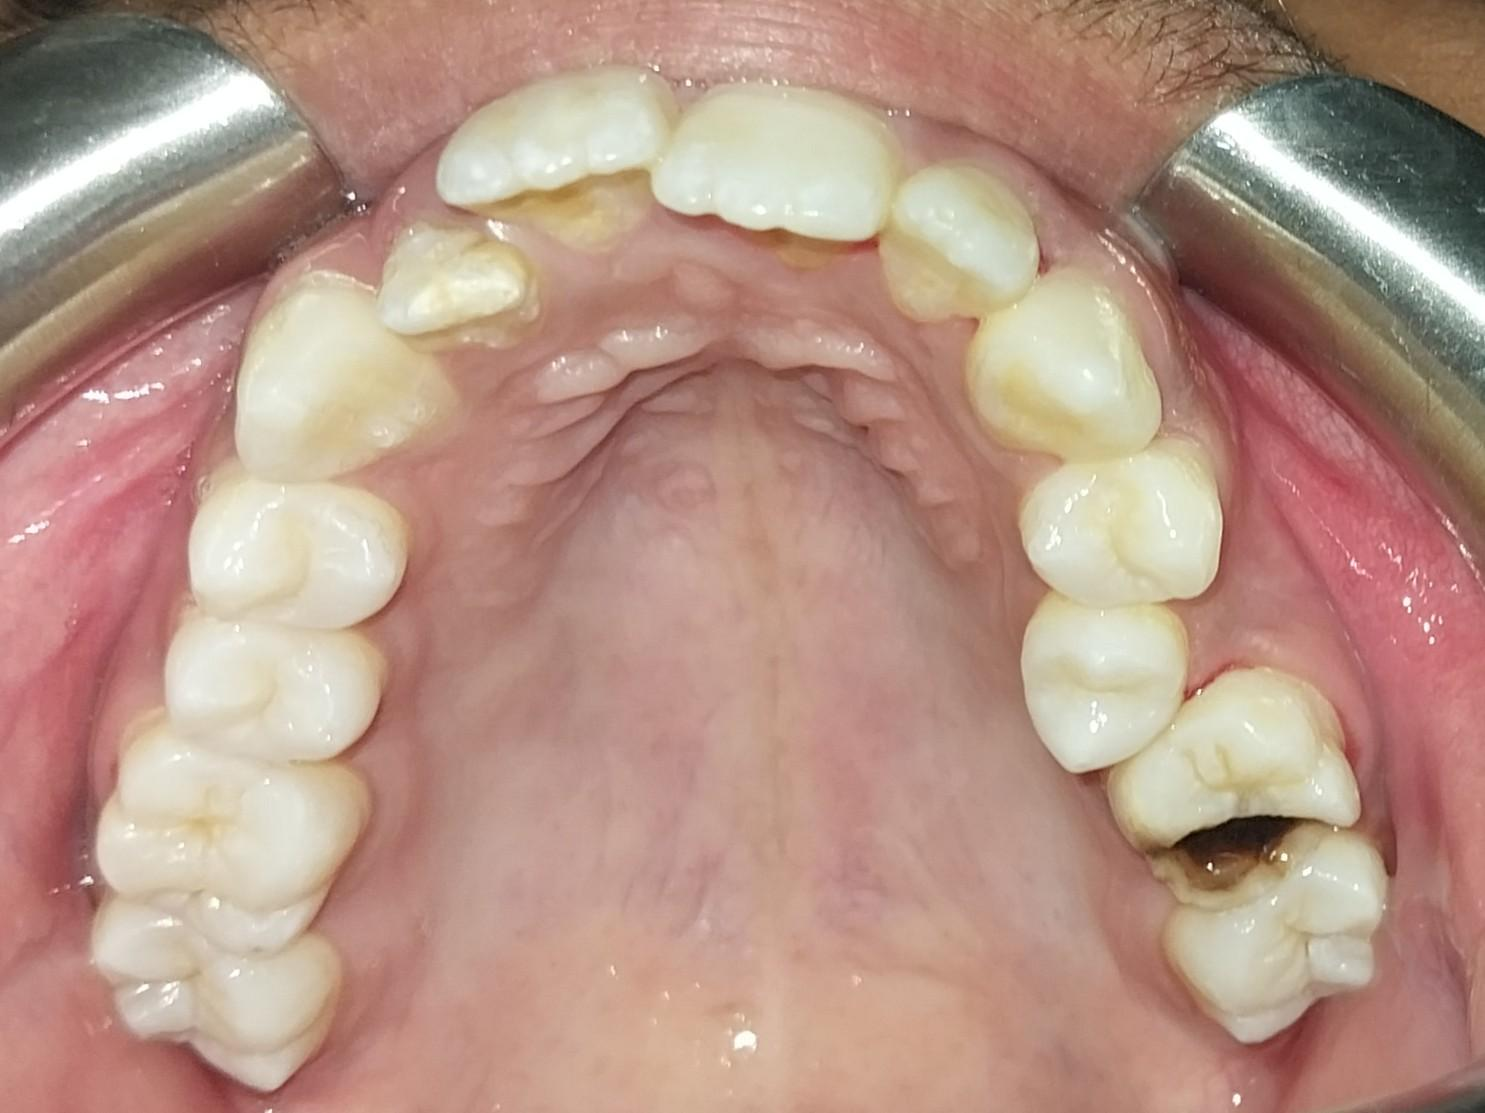D: (1114, 681, 1363, 907)
